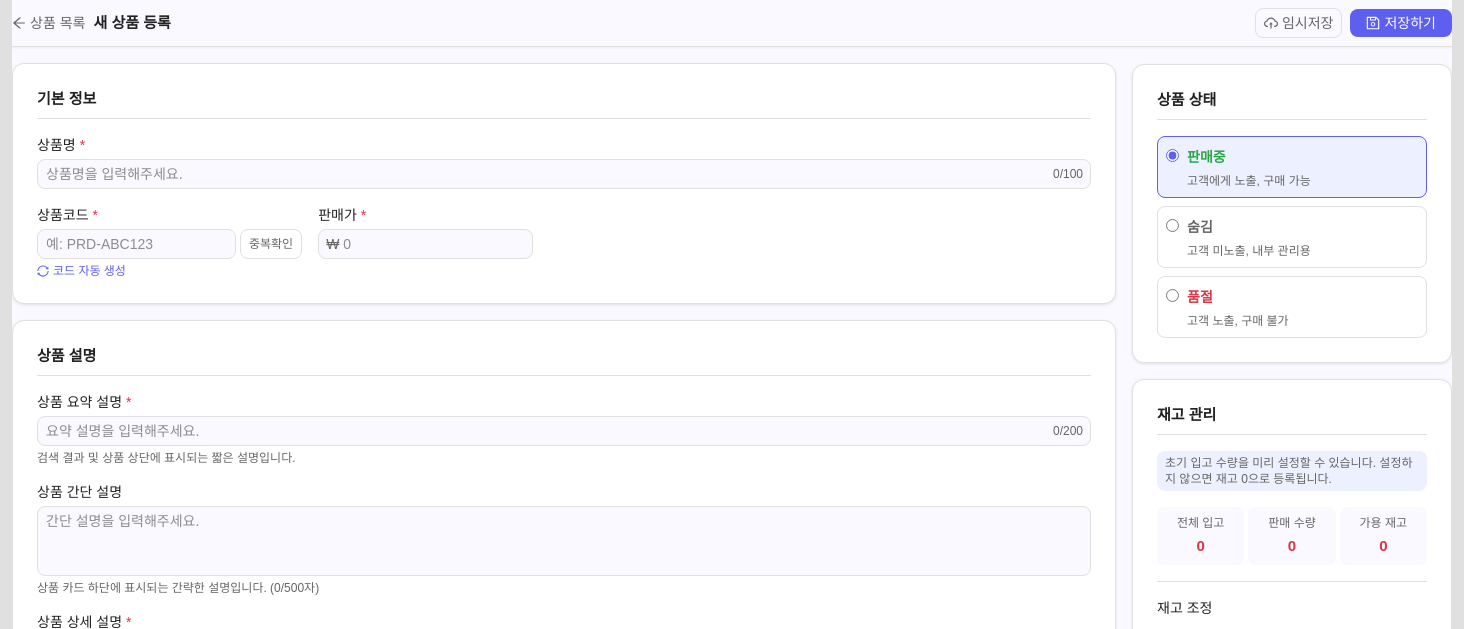
상품코드 중복 확인 › 코드 변경 시 확인 상태 초기화
The image size is (1464, 629).
Type "NEW-001" into the field with placeholder "예: PRD-ABC123" at (136, 244), box left=37, top=229, right=236, bottom=259
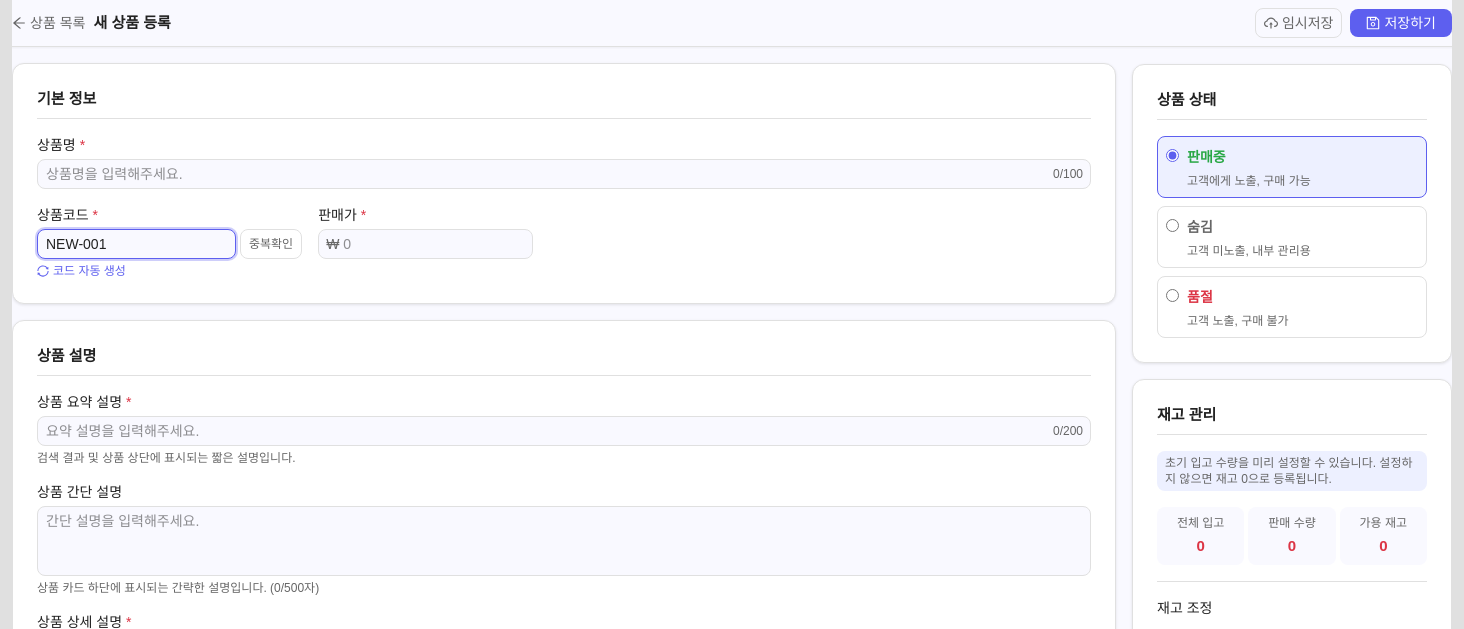
Click the button with aria-label "상품코드 중복 확인" at (271, 244), box left=240, top=229, right=302, bottom=259
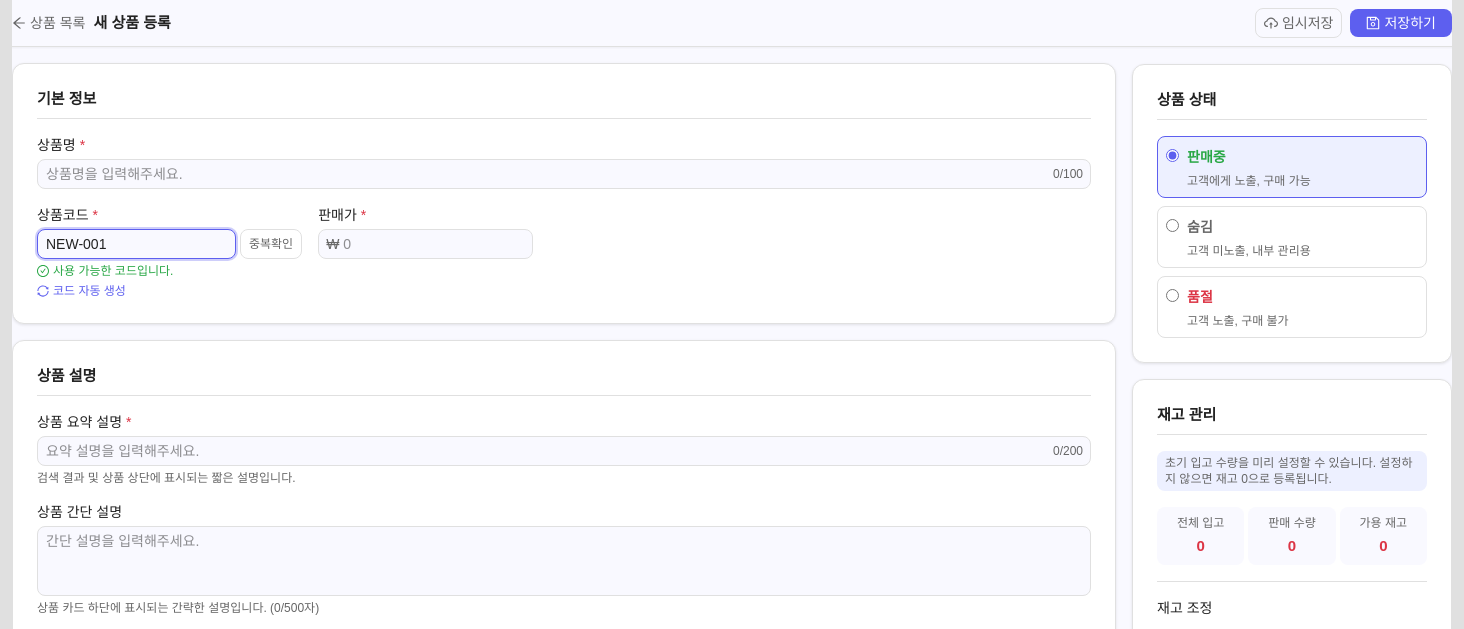
Check: the text "사용 가능한 코드입니다." is shown, box left=37, top=264, right=173, bottom=278
Type "-MODIFIED" into the field with placeholder "예: PRD-ABC123" at (136, 244), box left=37, top=229, right=236, bottom=259
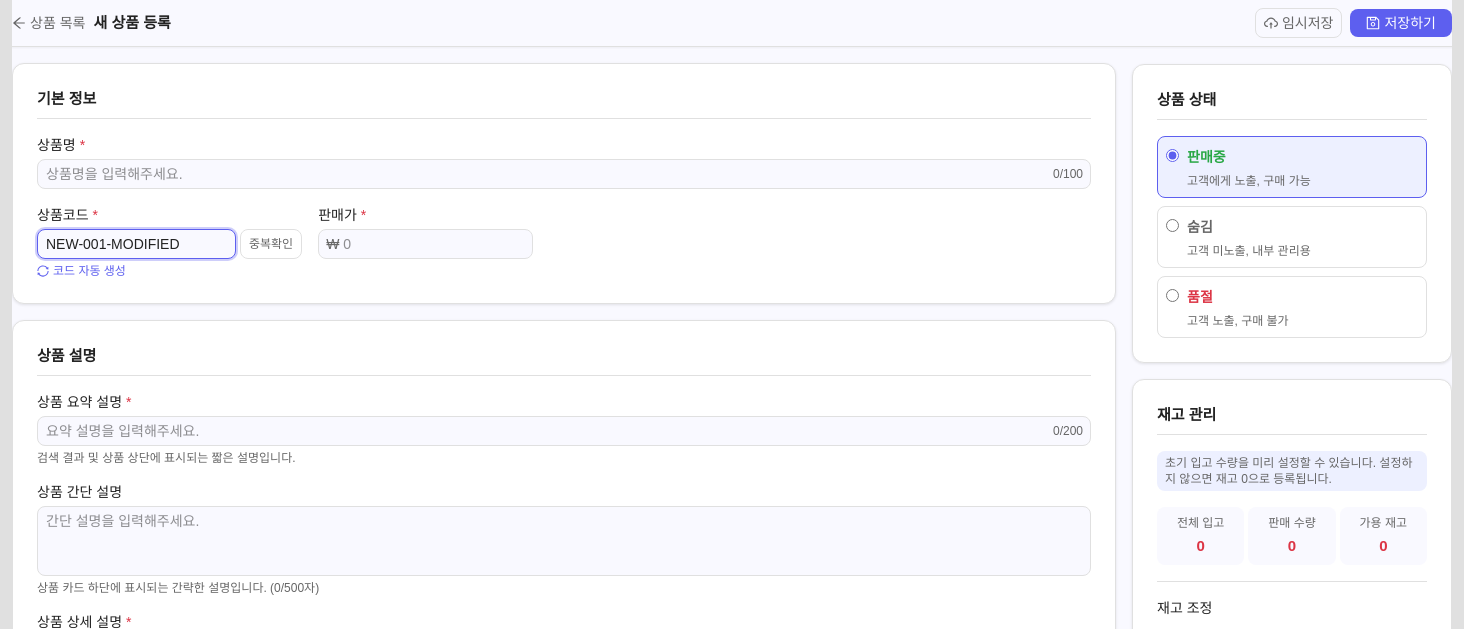
Check: the text "사용 가능한 코드입니다." is gone
